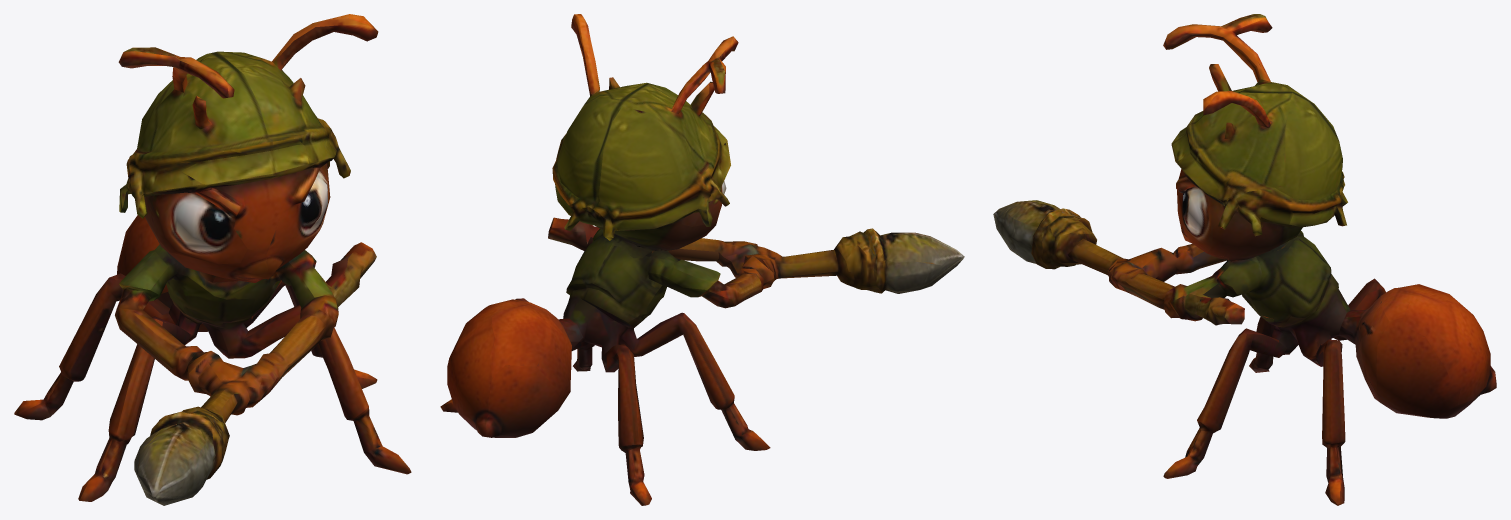
Rendered from SoldierAnt.glb.
3 renders of one model, left to right at view 1: azimuth 30°, elevation 25°; view 2: azimuth 150°, elevation 25°; view 3: azimuth 270°, elevation 25°, orthographic. The views are drawn at different scales.
Bounding box in the file's own units: 1.64 × 1.63 × 1.98.
1 material, 1 textured.
